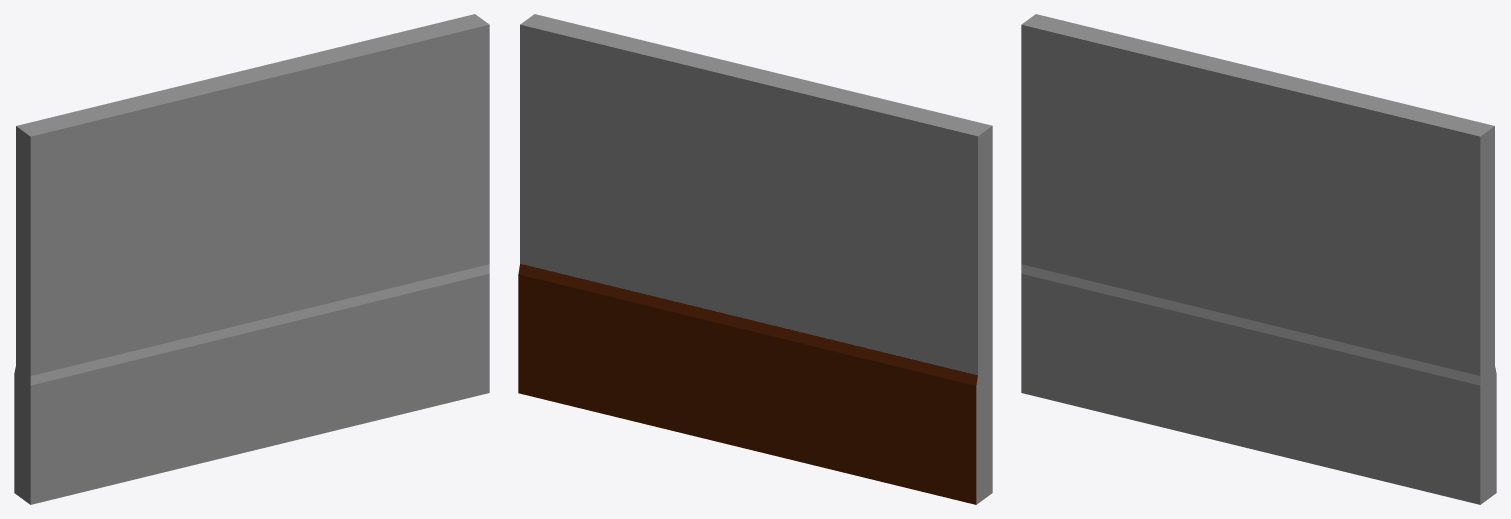
Rendered from Basic_Wall4.FBX.
3 renders of one model, left to right at view 1: azimuth 30°, elevation 25°; view 2: azimuth 150°, elevation 25°; view 3: azimuth 330°, elevation 25°, orthographic.
Visible parts, largest first — view 1: Cube; view 2: Cube; view 3: Cube.
Part boxes in pixels (left/top/right/bottom): Cube: left=14, top=14, right=489, bottom=504; Cube: left=518, top=14, right=992, bottom=504; Cube: left=1021, top=14, right=1496, bottom=504.
Bounding box in the file's own units: 300 × 230 × 18.41.
